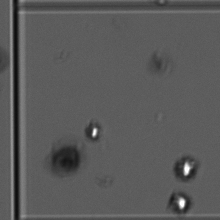Dead Cell: (50, 147, 87, 176)
Living Cell: (166, 187, 198, 215), (80, 117, 105, 143), (176, 153, 198, 179)
